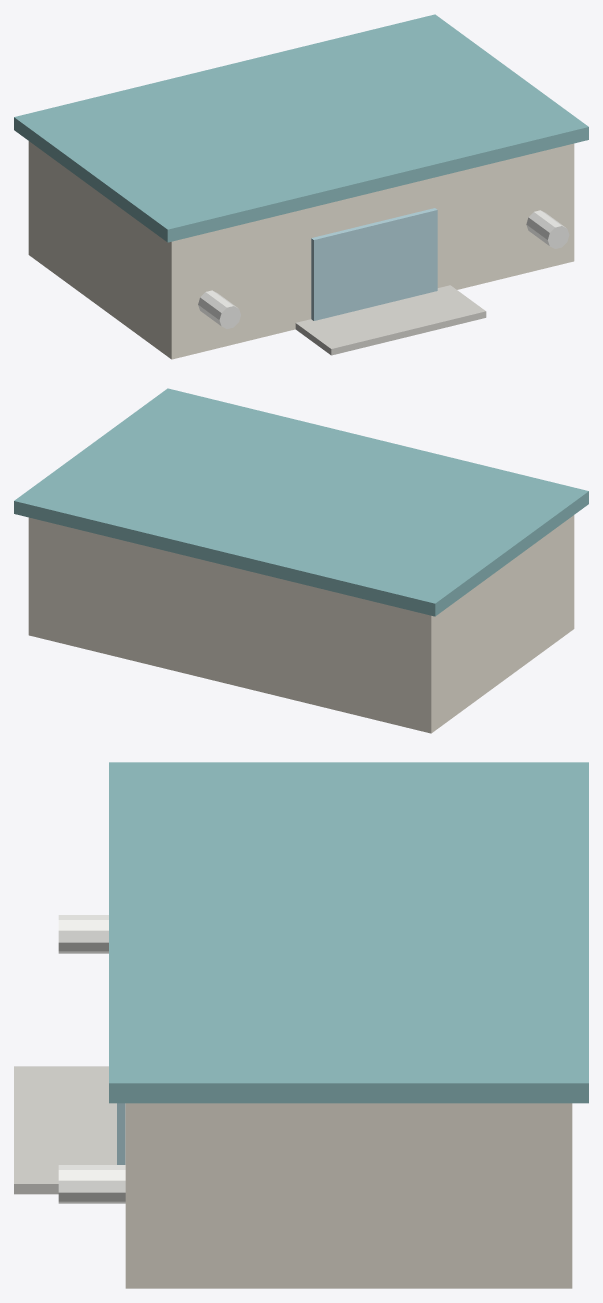
Rendered from community_center.glb.
3 views of the same model, one above another, from view 1: azimuth 30°, elevation 25°; view 2: azimuth 150°, elevation 25°; view 3: azimuth 270°, elevation 25° (orthographic). The views are drawn at different scales.
Visible parts, largest first — view 1: part_01, part_00, part_02, part_03, part_04, part_05; view 2: part_01, part_00; view 3: part_01, part_00, part_03, part_05, part_04.
Boxes of the visible parts, x1,y1,x2,y2 form: part_01: [14, 14, 588, 242]; part_00: [28, 141, 574, 359]; part_02: [311, 208, 437, 320]; part_03: [295, 285, 486, 355]; part_04: [198, 290, 240, 328]; part_05: [526, 210, 569, 248]; part_01: [14, 388, 588, 616]; part_00: [28, 515, 574, 733]; part_01: [109, 762, 588, 1103]; part_00: [125, 1103, 572, 1288]; part_03: [14, 1066, 125, 1194]; part_05: [58, 1165, 125, 1203]; part_04: [58, 915, 108, 953].
Bounding box in the file's own units: 13.6 × 4.2 × 10.3.
